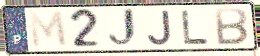2: (66, 7, 105, 51)
B: (214, 6, 250, 46)
J: (107, 6, 140, 51), (145, 9, 174, 47)
L: (179, 9, 211, 46)
M: (27, 10, 70, 50)
